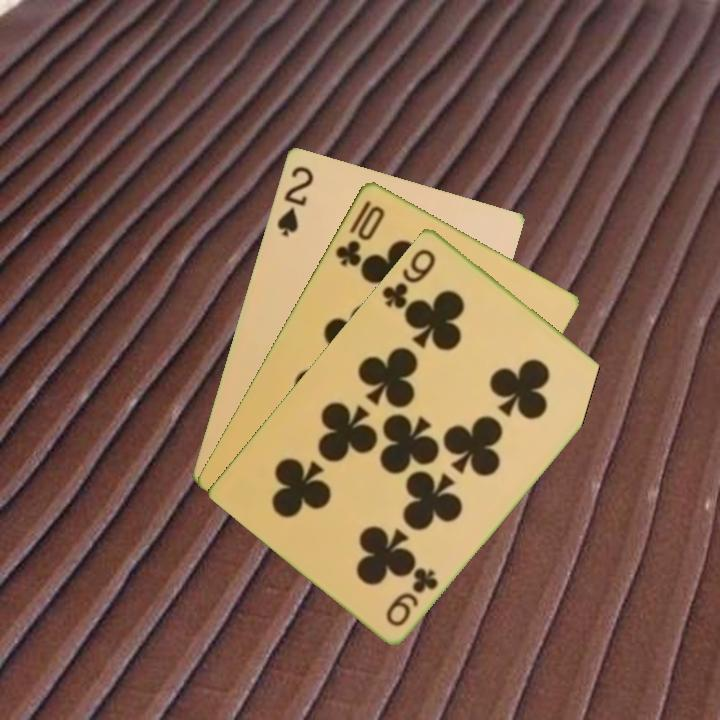10c: (331, 196, 388, 269)
2s: (273, 162, 316, 239)
9c: (378, 244, 439, 311), (382, 563, 441, 629)
